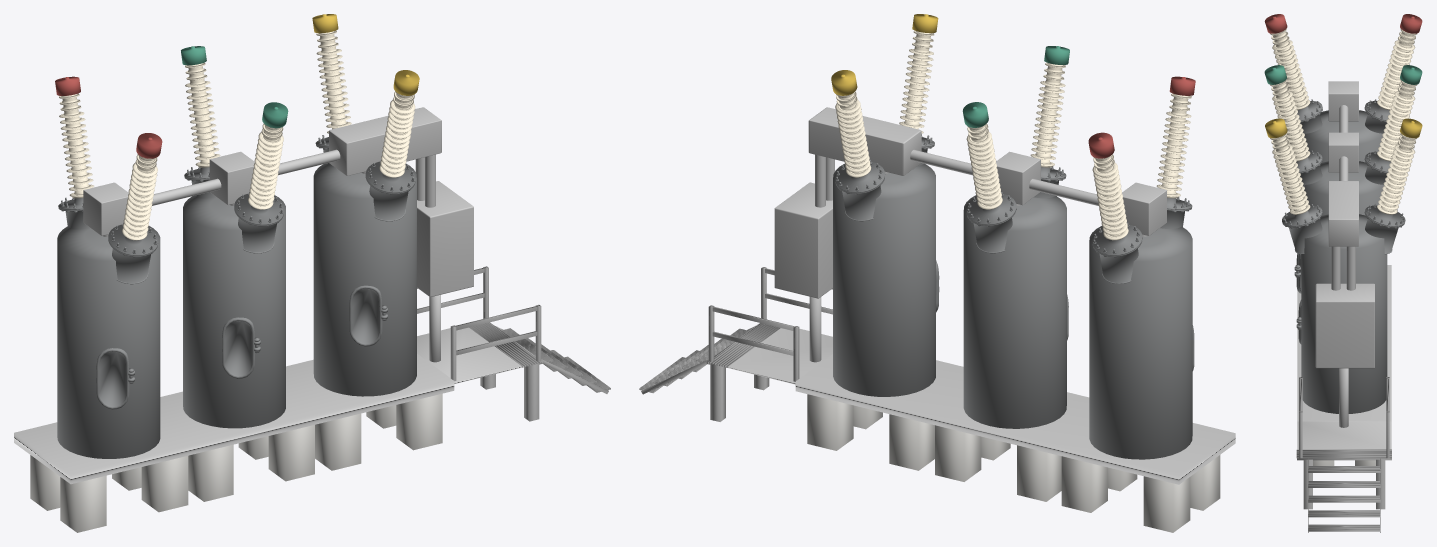
File: Switch.fbx
The picture shows the model from 3 angles, left to right: view 1: azimuth 30°, elevation 25°; view 2: azimuth 150°, elevation 25°; view 3: azimuth 270°, elevation 25°; orthographic projection. The views are drawn at different scales.
Visible parts, largest first — view 1: Бак.002, Бак, Бак.001, Шкаф, Основание изояторов, Низ основы 2.002, Низ основы 2, Низ основы 2.001, Лестница, Изолятор 1, Изолятор 1.001, Изолятор 1.005 (+10 smaller); view 2: Бак.001, Бак.002, Бак, Шкаф, Основание изояторов, Низ основы 2.002, Низ основы 2, Низ основы 2.001, Лестница, Изолятор 1.005, Изолятор 1.003, Изолятор 1.002 (+7 smaller); view 3: Шкаф, Бак, Основание изояторов, Бак.001, Бак.002, Изолятор 1.002, Изолятор 1.004, Лестница, Изолятор 1.003, Изолятор 1.001, Изолятор 1.005, Изолятор 1 (+20 smaller).
Boxes of the visible parts, box(x1,y1,x2,y2) form: Бак.002: box(57, 226, 160, 458); Бак: box(313, 163, 416, 396); Бак.001: box(183, 195, 285, 428); Шкаф: box(83, 107, 473, 362); Основание изояторов: box(14, 327, 521, 484); Низ основы 2.002: box(30, 455, 188, 532); Низ основы 2: box(315, 393, 442, 470); Низ основы 2.001: box(188, 425, 314, 501); Лестница: box(417, 266, 608, 421); Изолятор 1: box(59, 93, 94, 198); Изолятор 1.001: box(185, 62, 220, 167); Изолятор 1.005: box(122, 154, 157, 240); Бак.001: box(963, 195, 1066, 428); Бак.002: box(1089, 226, 1192, 459); Бак: box(833, 163, 935, 396); Шкаф: box(774, 107, 1166, 362); Основание изояторов: box(728, 328, 1235, 484); Низ основы 2.002: box(1061, 455, 1220, 532); Низ основы 2: box(807, 394, 934, 470); Низ основы 2.001: box(935, 425, 1061, 501); Лестница: box(641, 267, 832, 421); Изолятор 1.005: box(1156, 93, 1191, 198); Изолятор 1.003: box(1030, 62, 1065, 167); Изолятор 1.002: box(835, 91, 871, 177); Шкаф: box(1315, 81, 1374, 427); Бак: box(1301, 214, 1387, 413); Основание изояторов: box(1297, 265, 1391, 449); Бак.001: box(1304, 161, 1384, 215); Бак.002: box(1304, 110, 1382, 162); Изолятор 1.002: box(1377, 133, 1417, 214); Изолятор 1.004: box(1270, 133, 1310, 214); Лестница: box(1299, 377, 1389, 532); Изолятор 1.003: box(1270, 79, 1310, 161); Изолятор 1.001: box(1377, 80, 1417, 161); Изолятор 1.005: box(1270, 28, 1310, 110); Изолятор 1: box(1377, 29, 1417, 110).
Bounding box in the file's own units: 2072 × 1431 × 623.
